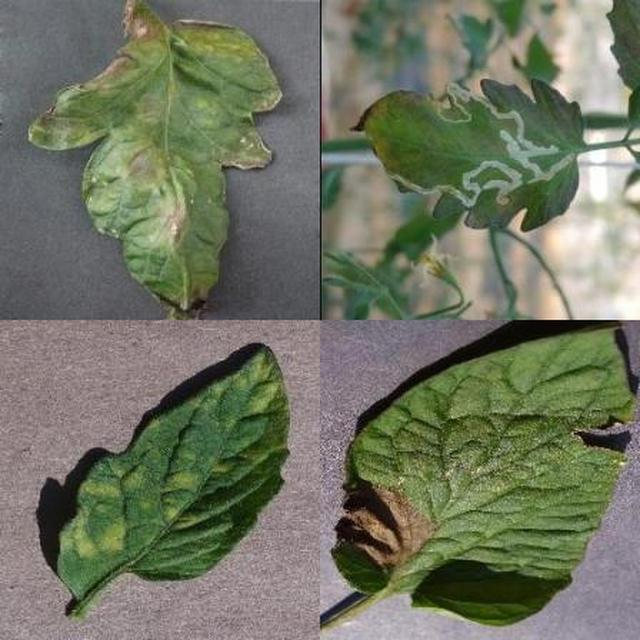Late Blight Leaf: (223, 223, 640, 640)
